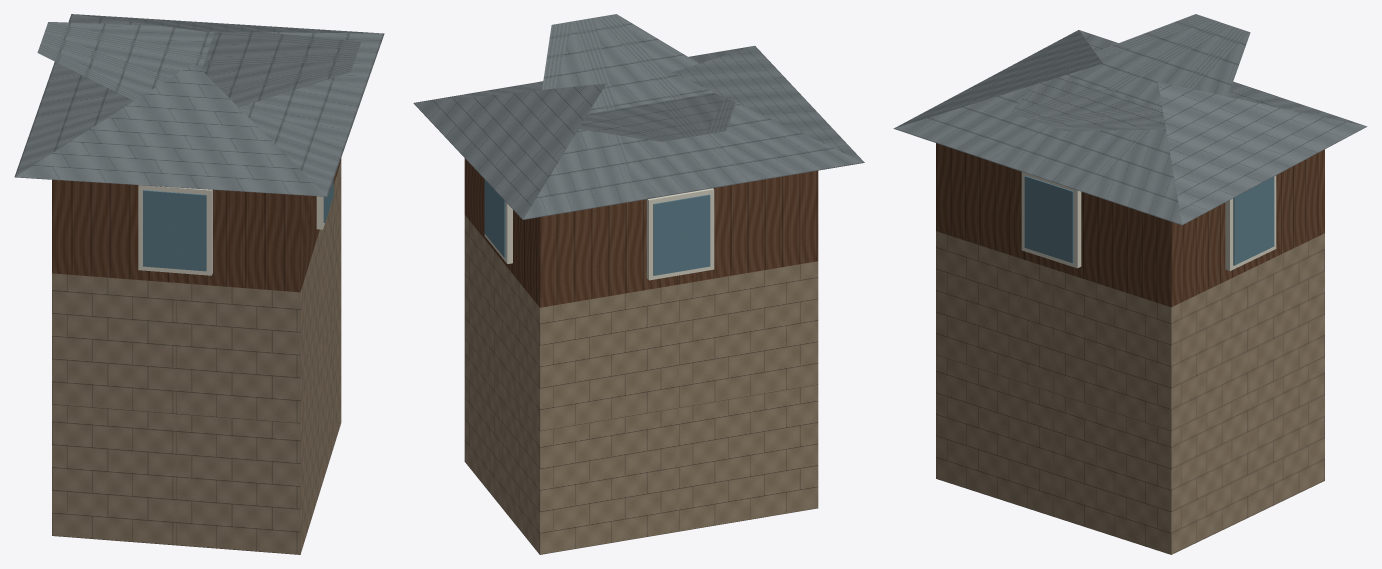
File: core_0112.gltf
The picture shows the model from 3 angles, left to right: view 1: azimuth 30°, elevation 25°; view 2: azimuth 150°, elevation 25°; view 3: azimuth 270°, elevation 25°; orthographic projection. The views are drawn at different scales.
Parts seen in each view (by area): view 1: core_0112; view 2: core_0112; view 3: core_0112.
Part boxes in pixels (x1=…): core_0112: x1=14, y1=14, x2=384, y2=554; core_0112: x1=413, y1=14, x2=864, y2=554; core_0112: x1=893, y1=14, x2=1367, y2=554.
Bounding box in the file's own units: 7.62 × 7.4 × 7.81.
5 materials, 5 textured.
